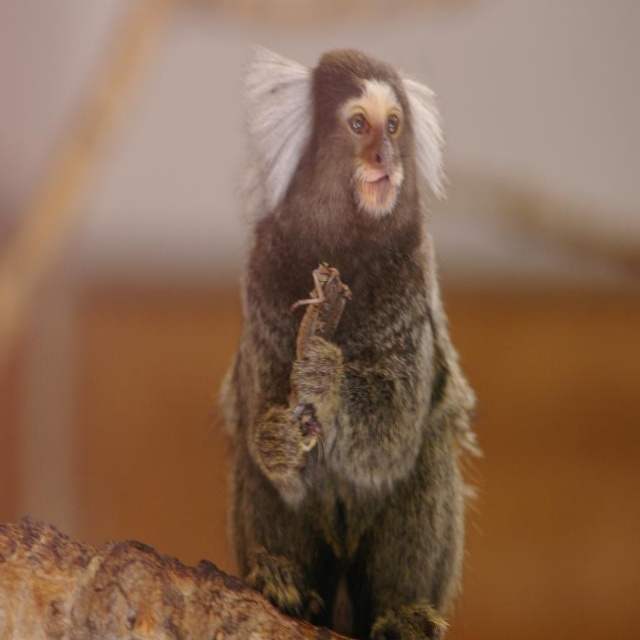Monkey: (197, 44, 485, 640)
